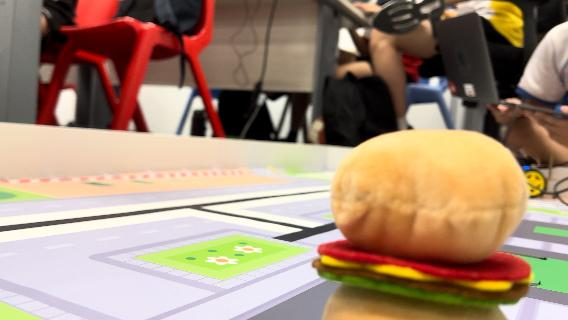burger: (313, 130, 542, 320)
